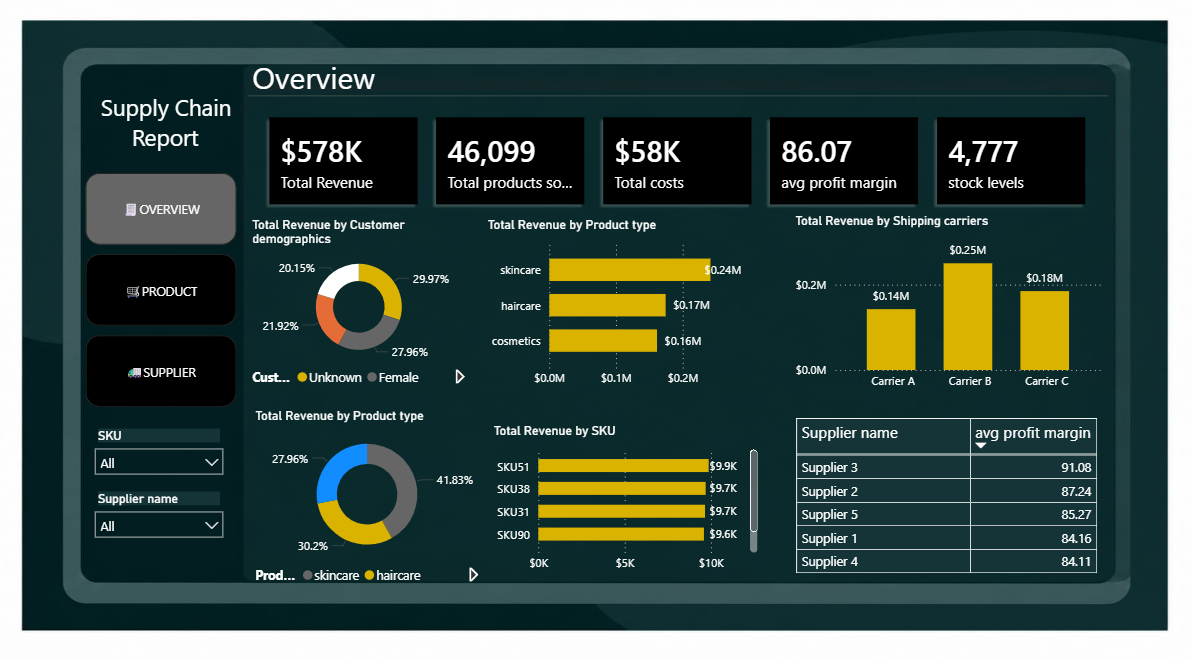

The page's visual inventory and layout, read from the dashboard file:
{"tool":"powerbi","page":{"name":"🧾OVERVIEW","canvas":[1280,720],"ordinal":0},"visuals":[{"type":"cardVisual","fields":{"Data":["_measures.Total Revenue","_measures.Total products sold","_measures.Total costs","_measures.avg profit margin","_measures.stock levels"]},"box":[272.1,105.8,912.8,143.6],"z":0},{"type":"donutChart","fields":{"Y":["_measures.Total Revenue"],"Category":["supply_chain_data.Customer demographics"]},"box":[272,241.8,235.4,187.7],"z":1000},{"type":"donutChart","fields":{"Y":["_measures.Total Revenue"],"Category":["supply_chain_data.Product type"]},"box":[275.2,443.8,246.5,195.6],"z":2000},{"type":"clusteredBarChart","fields":{"Y":["_measures.Total Revenue"],"Category":["supply_chain_data.Product type"]},"box":[521.7,241.8,295.9,187.7],"z":3000},{"type":"clusteredBarChart","fields":{"Y":["_measures.Total Revenue"],"Category":["supply_chain_data.SKU"]},"box":[528.1,459.7,289.5,165.4],"z":4000},{"type":"columnChart","fields":{"Category":["supply_chain_data.Shipping carriers"],"Y":["_measures.Total Revenue"]},"box":[847.8,237,337.2,195.6],"z":5000},{"type":"tableEx","fields":{"Values":["supply_chain_data.Supplier name","_measures.avg profit margin"]},"box":[847.8,448.6,335.6,195.6],"z":6000},{"type":"textbox","box":[272,65.2,839.8,65.2],"z":7000},{"type":"pageNavigator","box":[100.2,194.1,160.7,249.7],"z":8000},{"type":"slicer","fields":{"Values":["supply_chain_data.SKU"]},"box":[100.2,459.7,155.9,74.8],"z":9000},{"type":"slicer","fields":{"Values":["supply_chain_data.Supplier name"]},"box":[100.2,526.5,155.9,74.8],"z":10000},{"type":"textbox","box":[111.3,101.8,160.7,114.5],"z":11000}]}

Visuals, with their boxes in screenshot pixels (x1, y1, x2, y2), scaled from the page's 1280x720 canvas onto the 1192x658 screenshot:
cardVisual - _measures.Total Revenue x _measures.Total products sold: Rect(253, 97, 1103, 228)
donutChart - _measures.Total Revenue x supply_chain_data.Customer demographics: Rect(253, 221, 473, 393)
donutChart - _measures.Total Revenue x supply_chain_data.Product type: Rect(256, 406, 486, 584)
clusteredBarChart - _measures.Total Revenue x supply_chain_data.Product type: Rect(486, 221, 761, 393)
clusteredBarChart - _measures.Total Revenue x supply_chain_data.SKU: Rect(492, 420, 761, 571)
columnChart - supply_chain_data.Shipping carriers x _measures.Total Revenue: Rect(790, 217, 1104, 395)
tableEx - supply_chain_data.Supplier name x _measures.avg profit margin: Rect(790, 410, 1102, 589)
textbox: Rect(253, 60, 1035, 119)
pageNavigator: Rect(93, 177, 243, 406)
slicer - supply_chain_data.SKU: Rect(93, 420, 238, 488)
slicer - supply_chain_data.Supplier name: Rect(93, 481, 238, 550)
textbox: Rect(104, 93, 253, 198)
